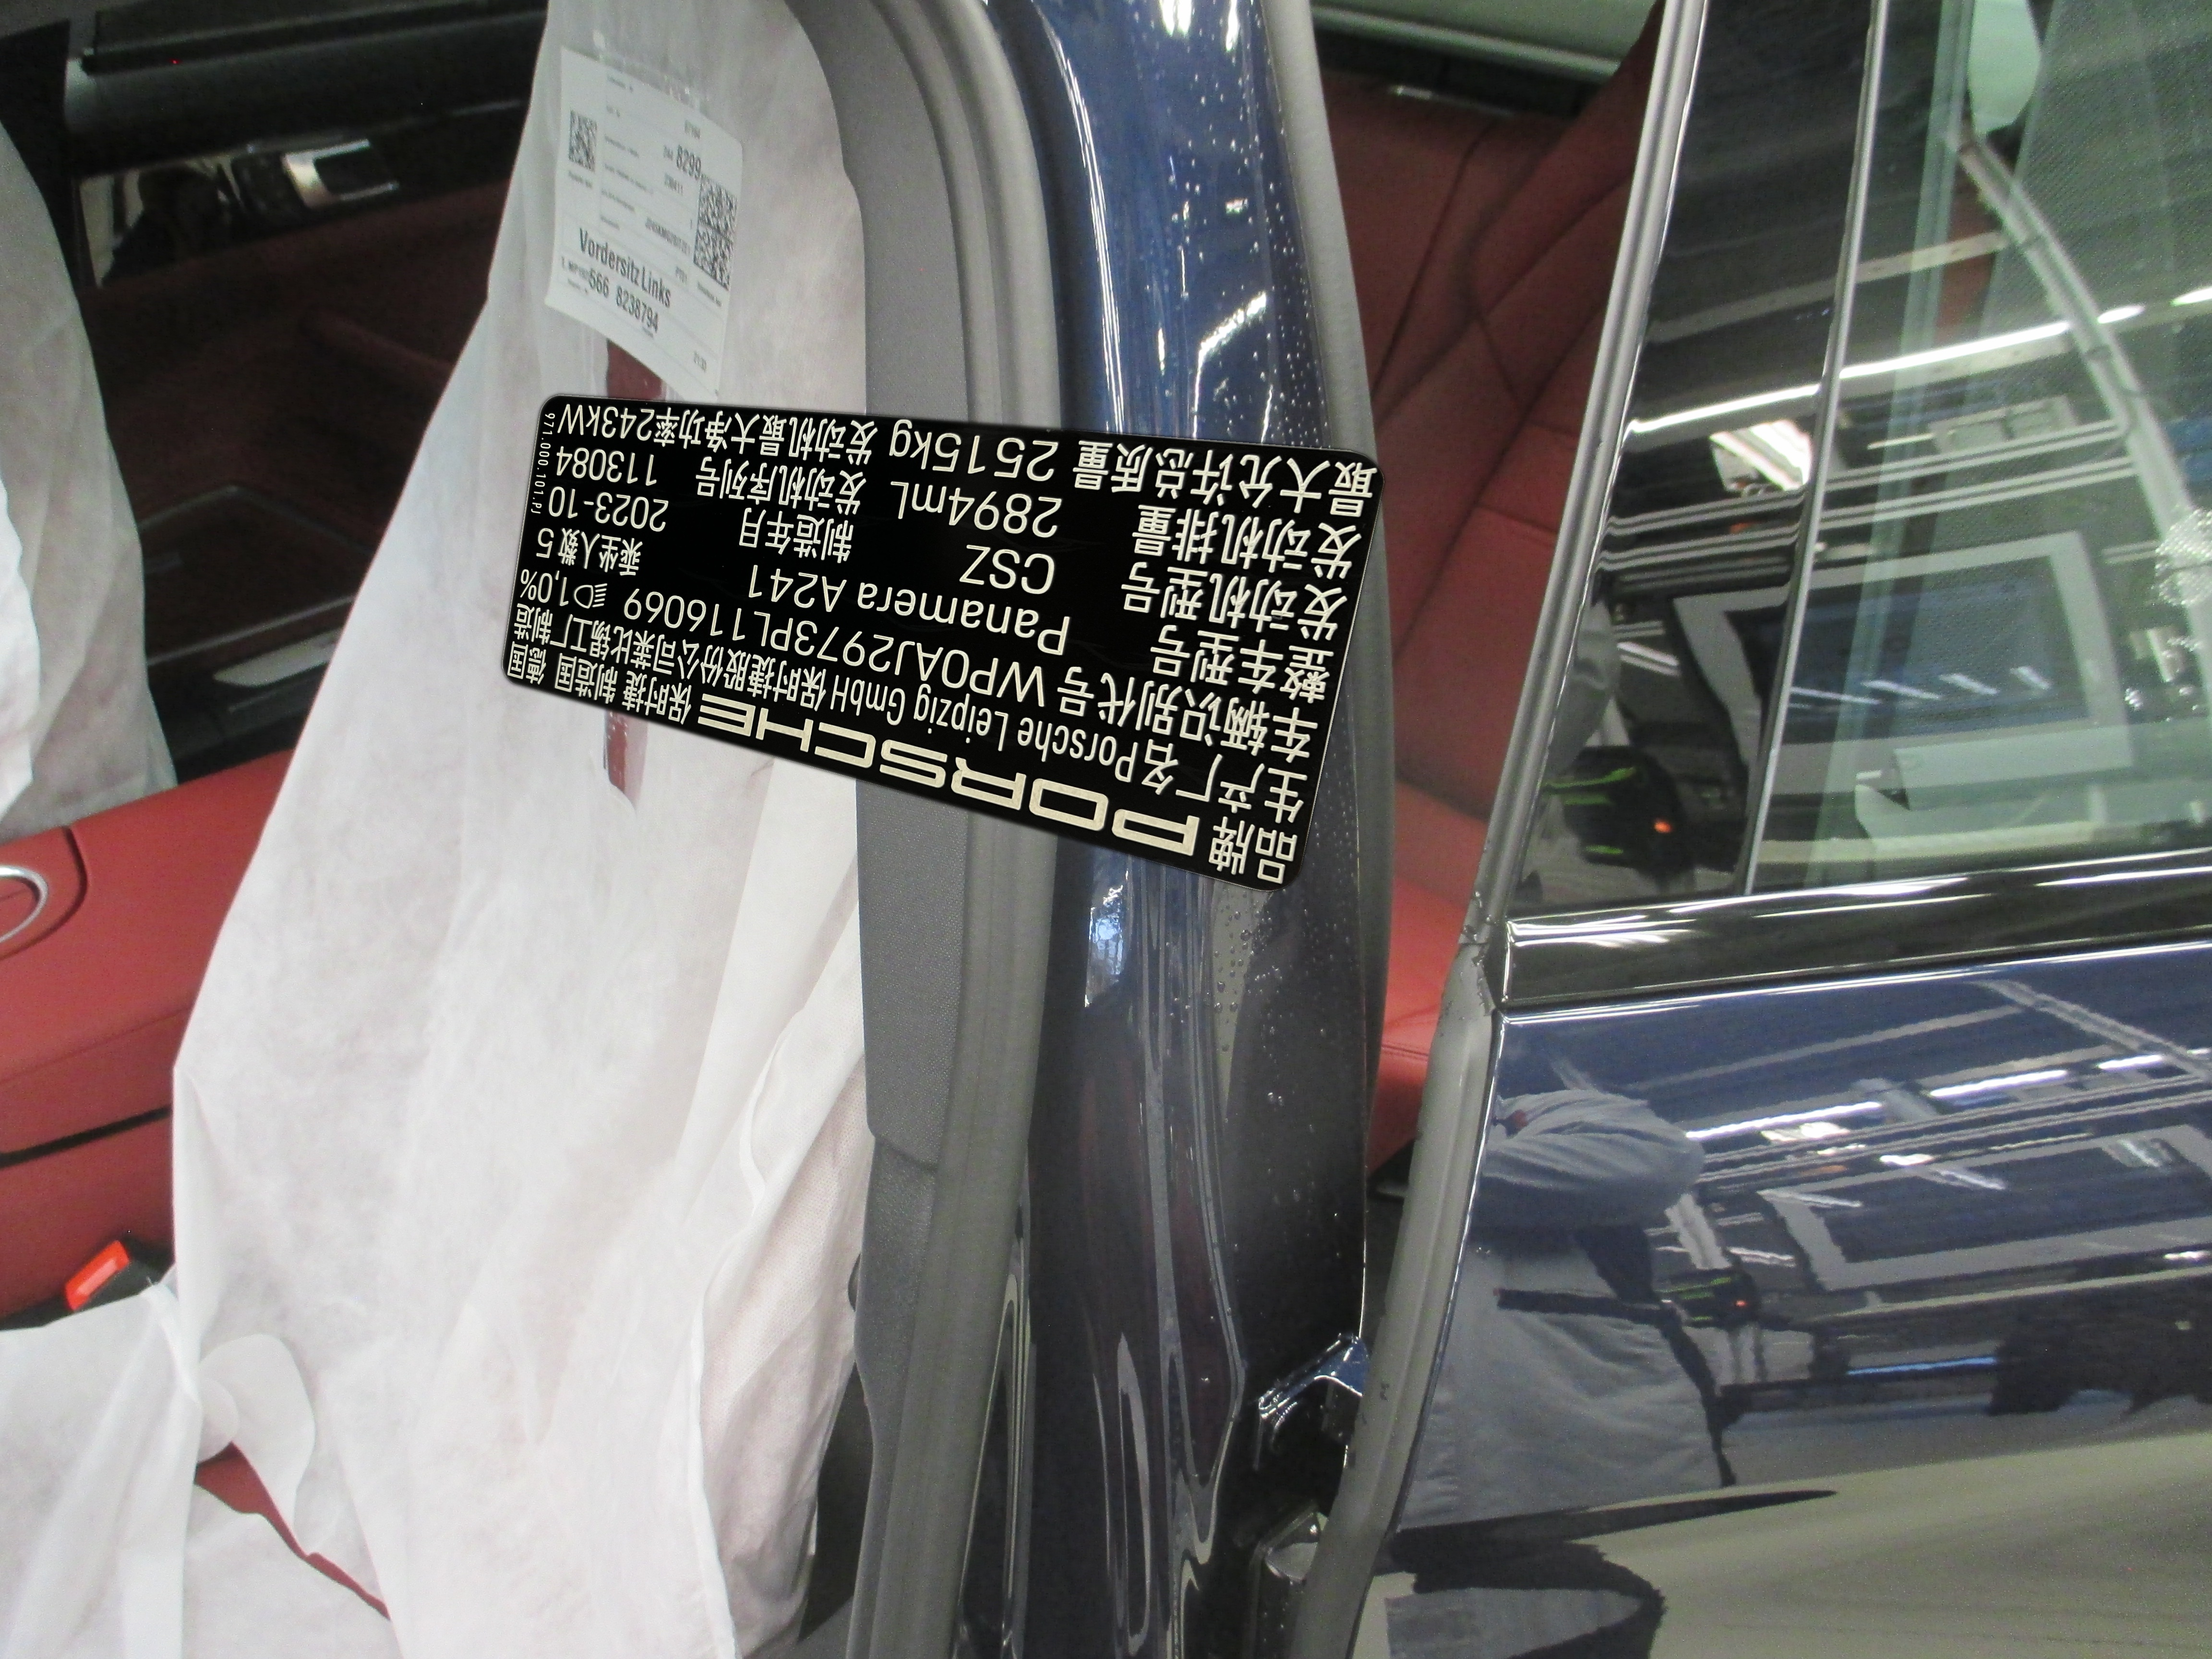Typlabel-China: (502, 394, 1385, 890)
